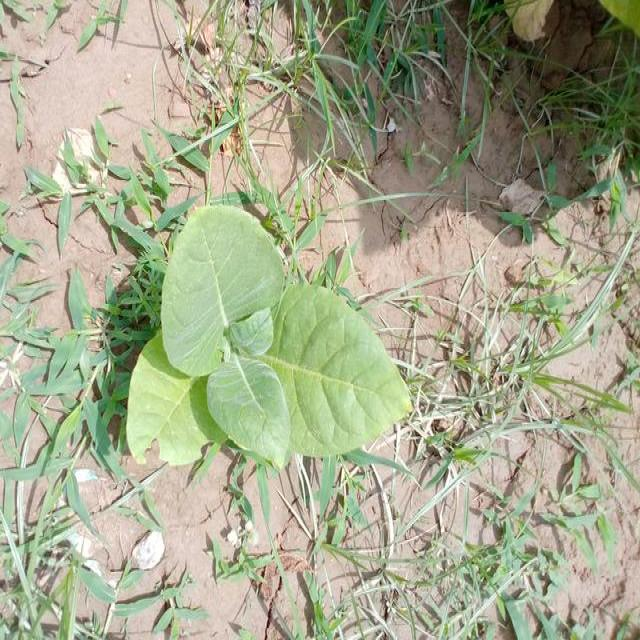crop: (122, 207, 414, 463)
